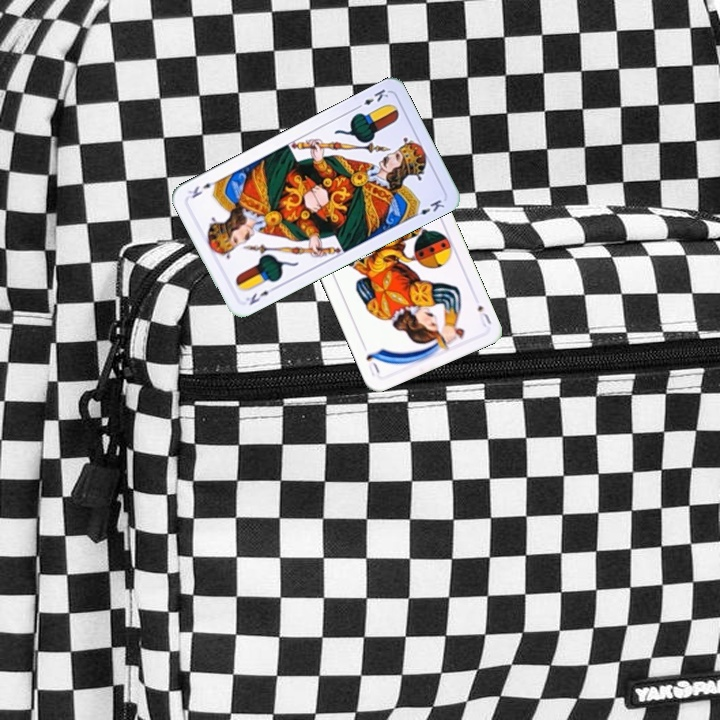EK: (352, 85, 391, 112), (242, 282, 279, 308)
SU: (473, 301, 494, 329)
